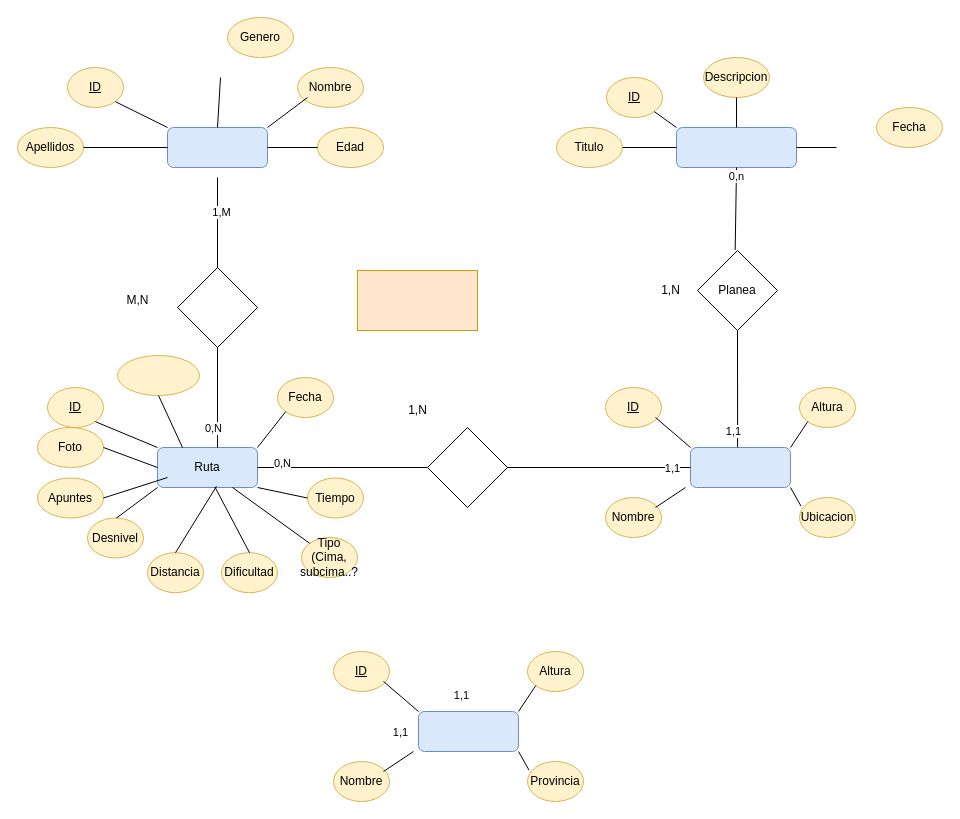
This 960x819 diagram has some shape labels left out. Each missing label, with the centre of its shape:
"Asciende" belongs at pixel 467 467.
"Calendario" belongs at pixel 736 147.
"Completan" belongs at pixel 217 307.
"Monte" belongs at pixel 740 467.
"MonteAPI" belongs at pixel 468 731.
"Peligrosidad" belongs at pixel 158 375.
"Persona" belongs at pixel 217 147.
"SummitTrack Aimar Huici" belongs at pixel 417 300.
